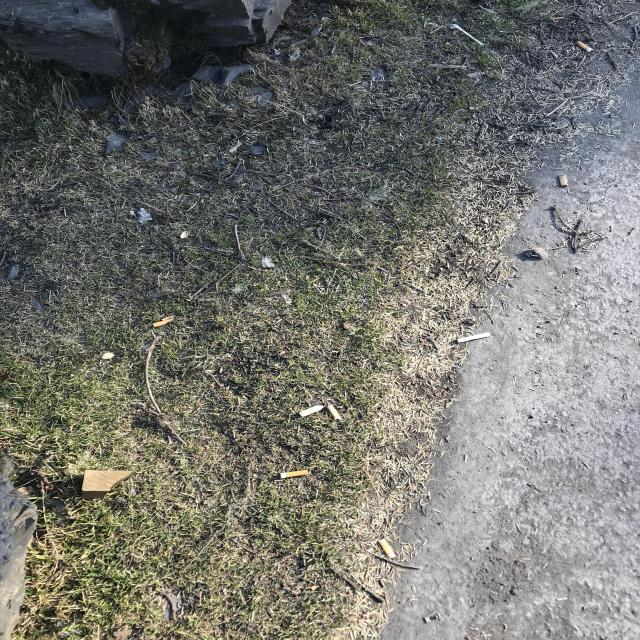litter: (444, 113, 458, 137), (540, 238, 556, 256), (539, 223, 560, 235), (626, 249, 637, 270), (425, 350, 438, 366), (54, 35, 71, 47), (233, 54, 250, 61)
